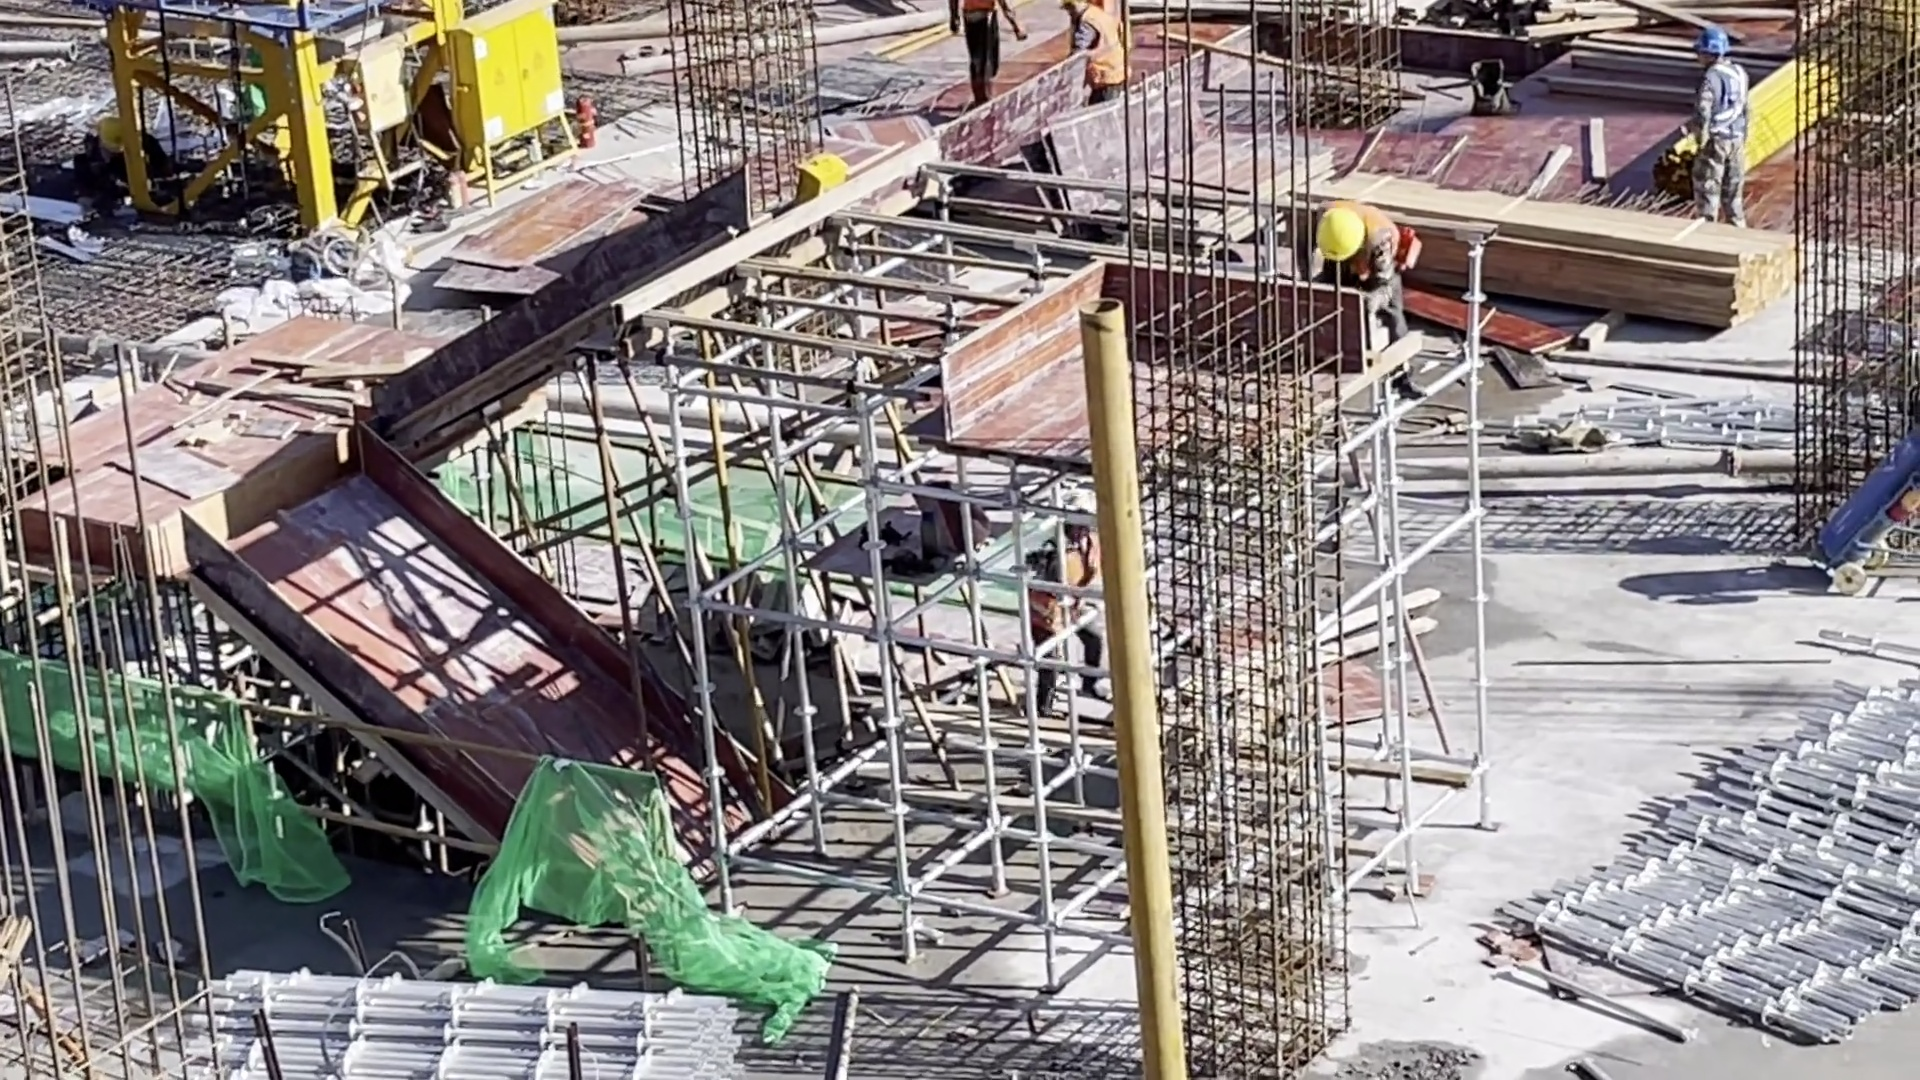helmet: (1314, 210, 1362, 260), (100, 121, 135, 156), (1695, 28, 1728, 57)
person: (1028, 506, 1119, 727), (1312, 198, 1421, 339), (1691, 30, 1760, 227), (945, 4, 1033, 106), (1062, 4, 1136, 105), (84, 119, 163, 212)
vest: (1037, 538, 1104, 628), (1325, 194, 1398, 277), (1070, 13, 1128, 84), (1700, 60, 1750, 140)
